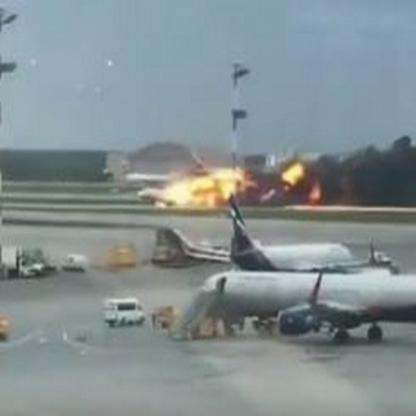CIV_Plane: (189, 256, 415, 353)
